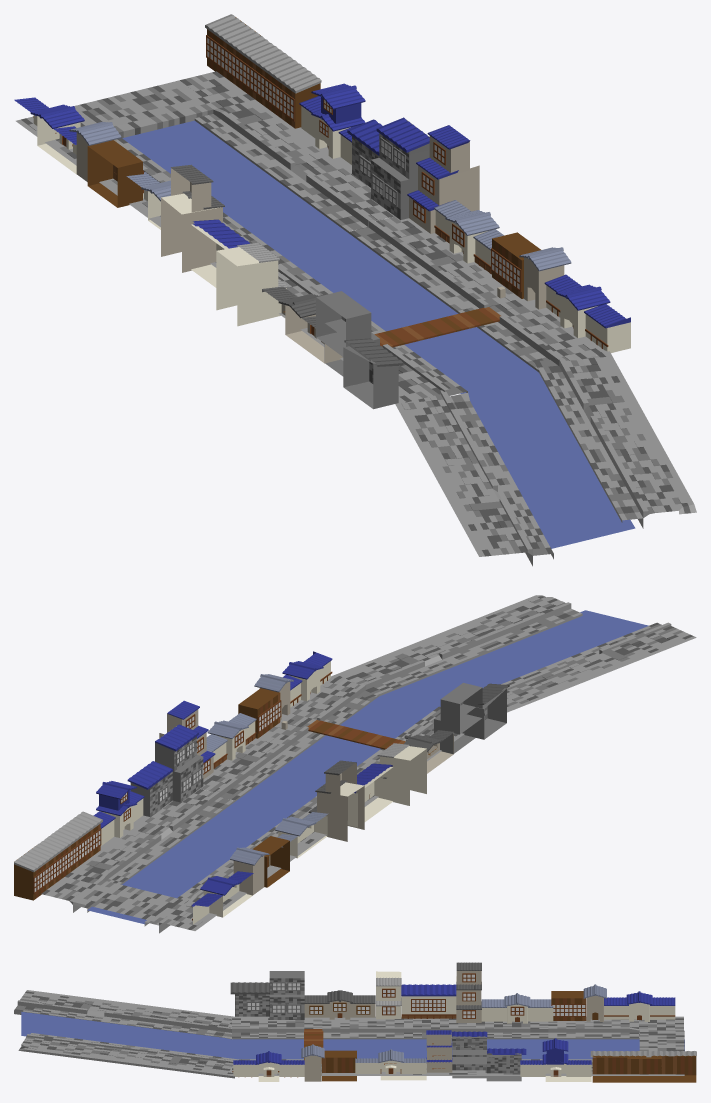
File: KyotoCanal.fbx
3 views of the same model, one above another, from view 1: azimuth 30°, elevation 25°; view 2: azimuth 150°, elevation 25°; view 3: azimuth 270°, elevation 25° (orthographic). The views are drawn at different scales.
Parts seen in each view (by area): view 1: Plane.006; view 2: Plane.006; view 3: Plane.006.
Part boxes in pixels (x1,y1,x2,y2): Plane.006: [14, 14, 696, 566]; Plane.006: [14, 595, 696, 933]; Plane.006: [14, 962, 696, 1082].
Size of the model in its own units: 134 by 37.72 by 395.
